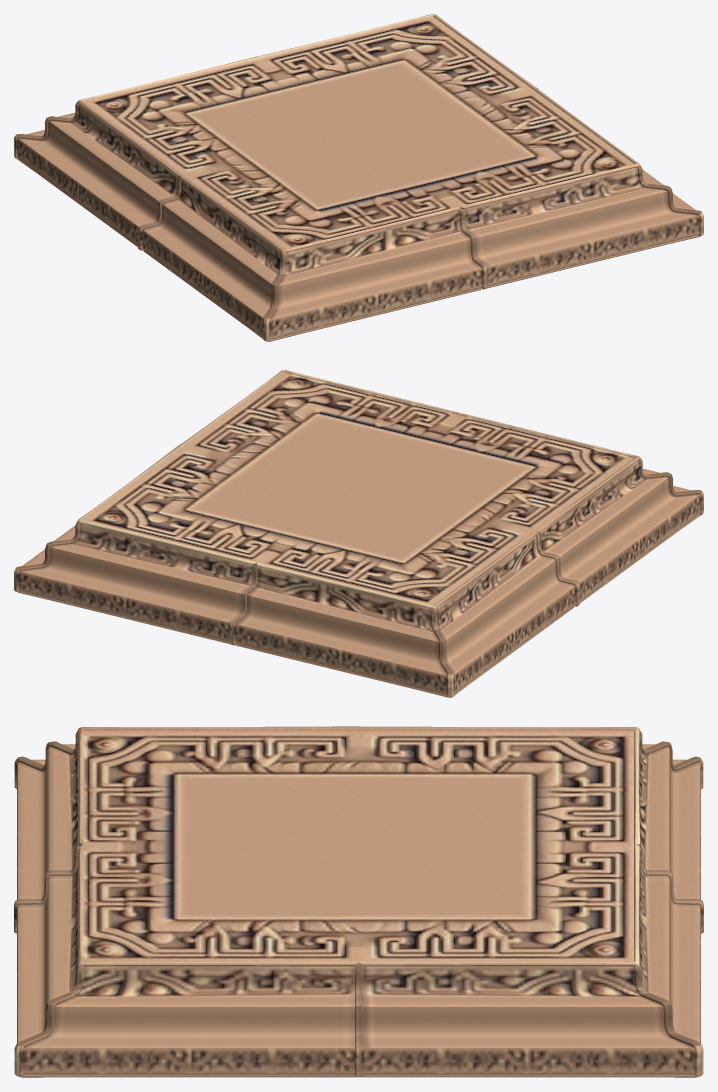
3 renders of one model, top to bottom at view 1: azimuth 30°, elevation 25°; view 2: azimuth 150°, elevation 25°; view 3: azimuth 270°, elevation 25°, orthographic. The views are drawn at different scales.
Visible parts, largest first — view 1: Stand5; view 2: Stand5; view 3: Stand5.
Part boxes in pixels (x1,y1,x2,y2): Stand5: (14, 14, 703, 341); Stand5: (14, 370, 703, 697); Stand5: (14, 726, 703, 1077).
Size of the model in its own units: 22.2 by 3.19 by 22.2.
1 material, 1 textured.
